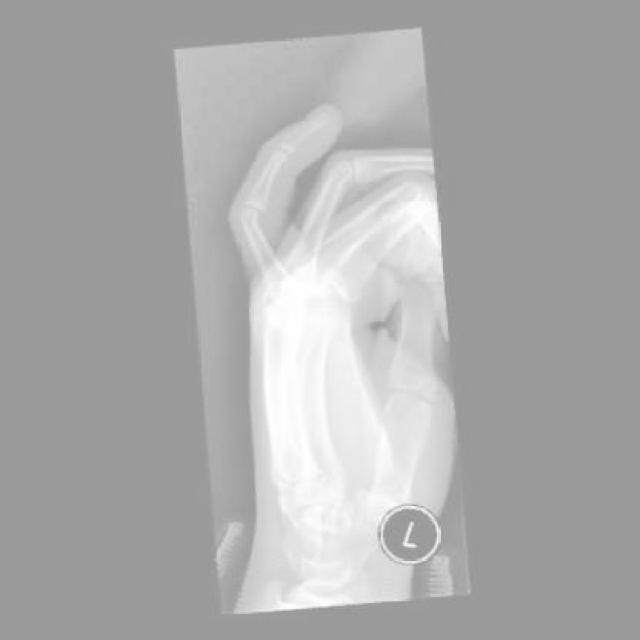Fracture: (273, 128, 299, 151)
